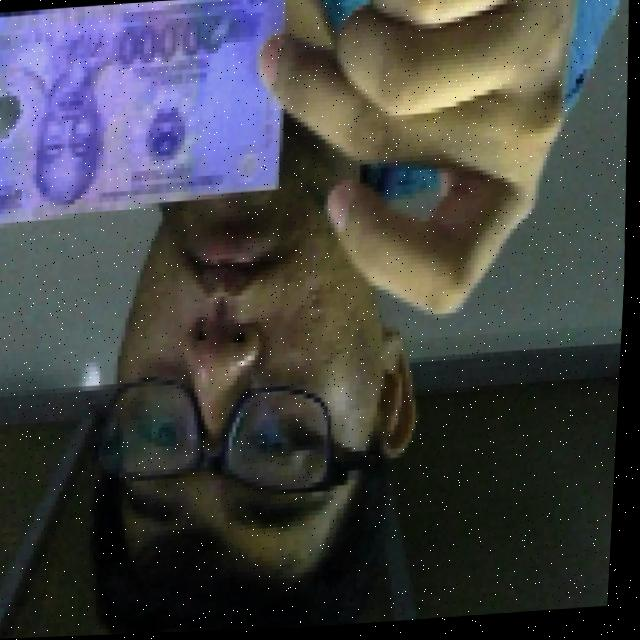20 000 VND: (0, 0, 300, 237)
